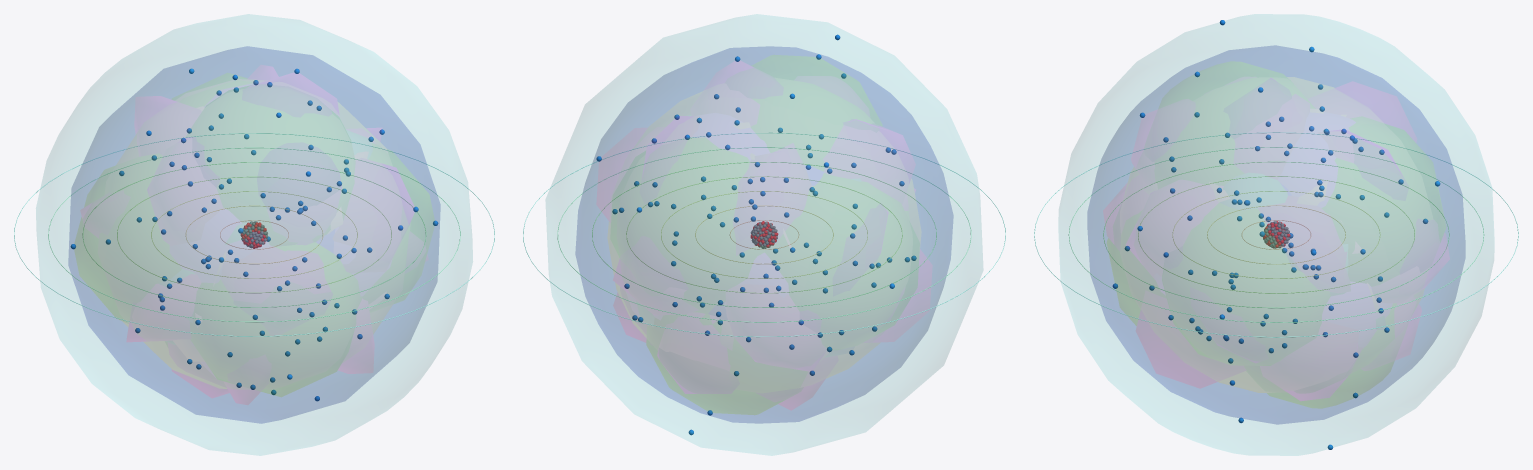
3 views of the same model, side by side, from view 1: azimuth 30°, elevation 25°; view 2: azimuth 150°, elevation 25°; view 3: azimuth 270°, elevation 25° (orthographic).
Parts seen in each view (by area): view 1: Orbital_7s_0, Orbital_6s_0, Orbital_6p_0, Orbital_6d_3, Orbital_5s_0, Nivel_n7, Nivel_n6, Orbital_6d_2, Orbital_6p_1, Nivel_n5, Nivel_n4, Orbital_6d_4; view 2: Orbital_7s_0, Orbital_6s_0, Orbital_6p_2, Orbital_6d_3, Orbital_5s_0, Nivel_n7, Orbital_6d_1, Nivel_n6, Orbital_6d_2, Nivel_n5, Orbital_6p_0, Nivel_n4 (+2 smaller); view 3: Orbital_7s_0, Orbital_6s_0, Orbital_6p_2, Orbital_6d_3, Orbital_6p_1, Nivel_n7, Nivel_n6, Orbital_5s_0, Orbital_6d_0, Nivel_n5, Orbital_6d_2, Nivel_n4 (+1 smaller).
Boxes of the visible parts, <box> form: Orbital_7s_0: <box>36,14,472,455</box>; Orbital_6s_0: <box>68,46,440,423</box>; Orbital_6p_0: <box>74,149,434,322</box>; Orbital_6d_3: <box>127,96,381,373</box>; Orbital_5s_0: <box>117,79,391,388</box>; Nivel_n7: <box>14,133,494,336</box>; Nivel_n6: <box>48,147,460,322</box>; Orbital_6d_2: <box>172,73,338,397</box>; Orbital_6p_1: <box>172,73,352,396</box>; Nivel_n5: <box>82,162,426,307</box>; Nivel_n4: <box>117,176,391,293</box>; Orbital_6d_4: <box>81,65,427,404</box>; Orbital_7s_0: <box>546,14,982,455</box>; Orbital_6s_0: <box>575,46,953,423</box>; Orbital_6p_2: <box>647,55,881,414</box>; Orbital_6d_3: <box>597,128,931,341</box>; Orbital_5s_0: <box>608,92,920,377</box>; Nivel_n7: <box>523,132,1005,337</box>; Orbital_6d_1: <box>614,121,914,371</box>; Nivel_n6: <box>557,147,971,322</box>; Orbital_6d_2: <box>613,61,915,409</box>; Nivel_n5: <box>592,162,936,307</box>; Orbital_6p_0: <box>833,223,919,349</box>; Nivel_n4: <box>626,176,902,293</box>; Orbital_7s_0: <box>1059,14,1493,455</box>; Orbital_6s_0: <box>1087,45,1465,424</box>; Orbital_6p_2: <box>1159,62,1393,407</box>; Orbital_6d_3: <box>1136,82,1416,387</box>; Orbital_6p_1: <box>1107,124,1445,325</box>; Nivel_n7: <box>1034,132,1518,337</box>; Nivel_n6: <box>1068,147,1484,322</box>; Orbital_5s_0: <box>1125,77,1423,392</box>; Orbital_6d_0: <box>1131,110,1421,359</box>; Nivel_n5: <box>1103,161,1449,308</box>; Orbital_6d_2: <box>1103,184,1449,288</box>; Nivel_n4: <box>1138,176,1414,293</box>.
Bounding box in the file's own units: 2.1 × 1.92 × 2.1.
